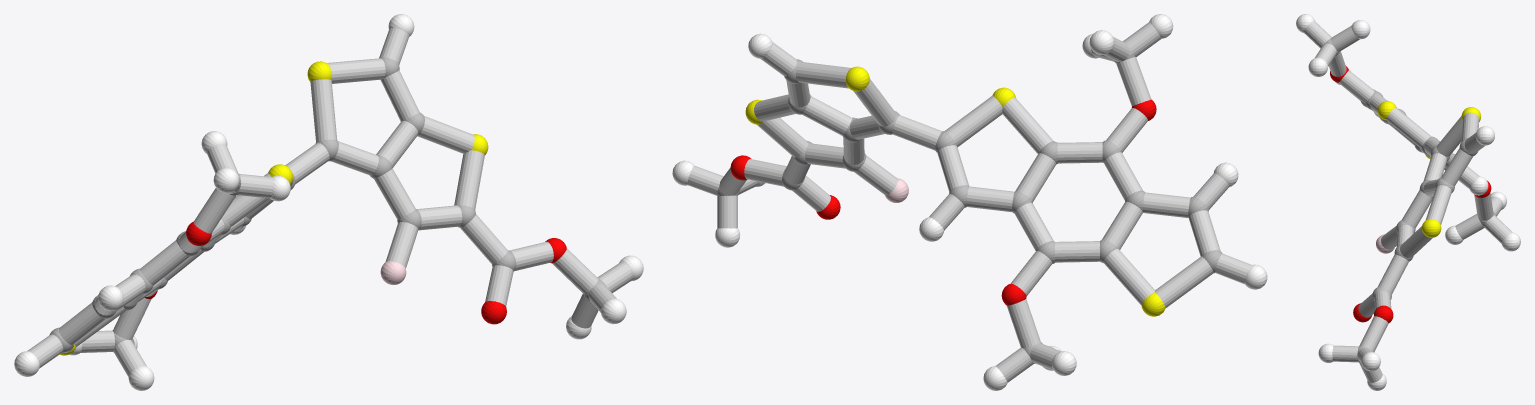
The model's file is color.glb.
3 views of the same model, side by side, from view 1: azimuth 30°, elevation 25°; view 2: azimuth 150°, elevation 25°; view 3: azimuth 270°, elevation 25° (orthographic). The views are drawn at different scales.
Parts seen in each view (by area): view 1: grp15205, grp8689, grp1, grp13395, grp7241; view 2: grp15205, grp8689, grp1, grp7241, grp13395; view 3: grp15205, grp8689, grp1, grp7241, grp13395.
Part boxes in pixels (x1=…): grp15205: x1=27, y1=28, x2=632, y2=376; grp8689: x1=14, y1=14, x2=643, y2=390; grp1: x1=49, y1=57, x2=606, y2=352; grp13395: x1=145, y1=221, x2=566, y2=324; grp7241: x1=60, y1=61, x2=488, y2=355; grp15205: x1=687, y1=22, x2=1251, y2=382; grp8689: x1=672, y1=14, x2=1267, y2=390; grp1: x1=717, y1=41, x2=1222, y2=363; grp7241: x1=745, y1=66, x2=1165, y2=316; grp13395: x1=730, y1=99, x2=1156, y2=305; grp15205: x1=1304, y1=21, x2=1512, y2=382; grp8689: x1=1296, y1=14, x2=1520, y2=390; grp1: x1=1324, y1=38, x2=1494, y2=363; grp7241: x1=1377, y1=101, x2=1481, y2=237; grp13395: x1=1330, y1=66, x2=1491, y2=322.
Bounding box in the file's own units: 16.56 × 7.82 × 6.9.
